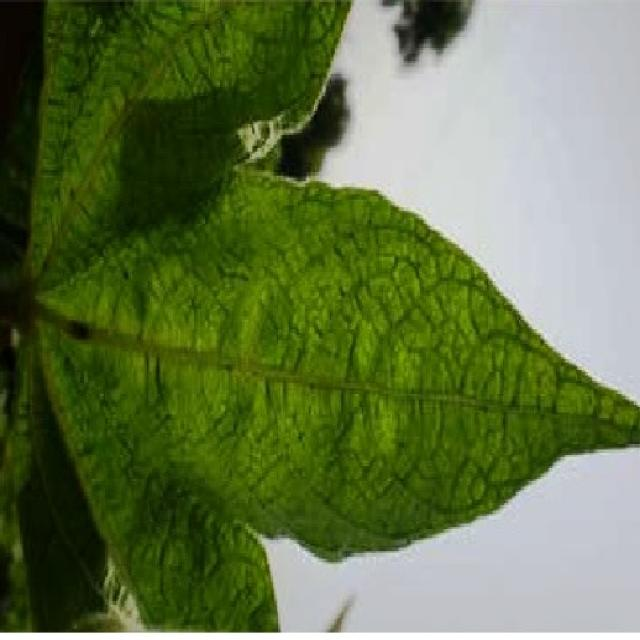Leaf Curl Virus: (49, 46, 400, 538)
